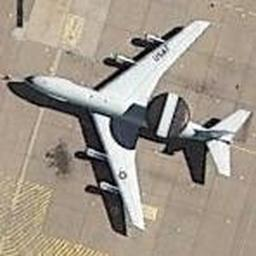Airplane: (17, 10, 252, 237)
